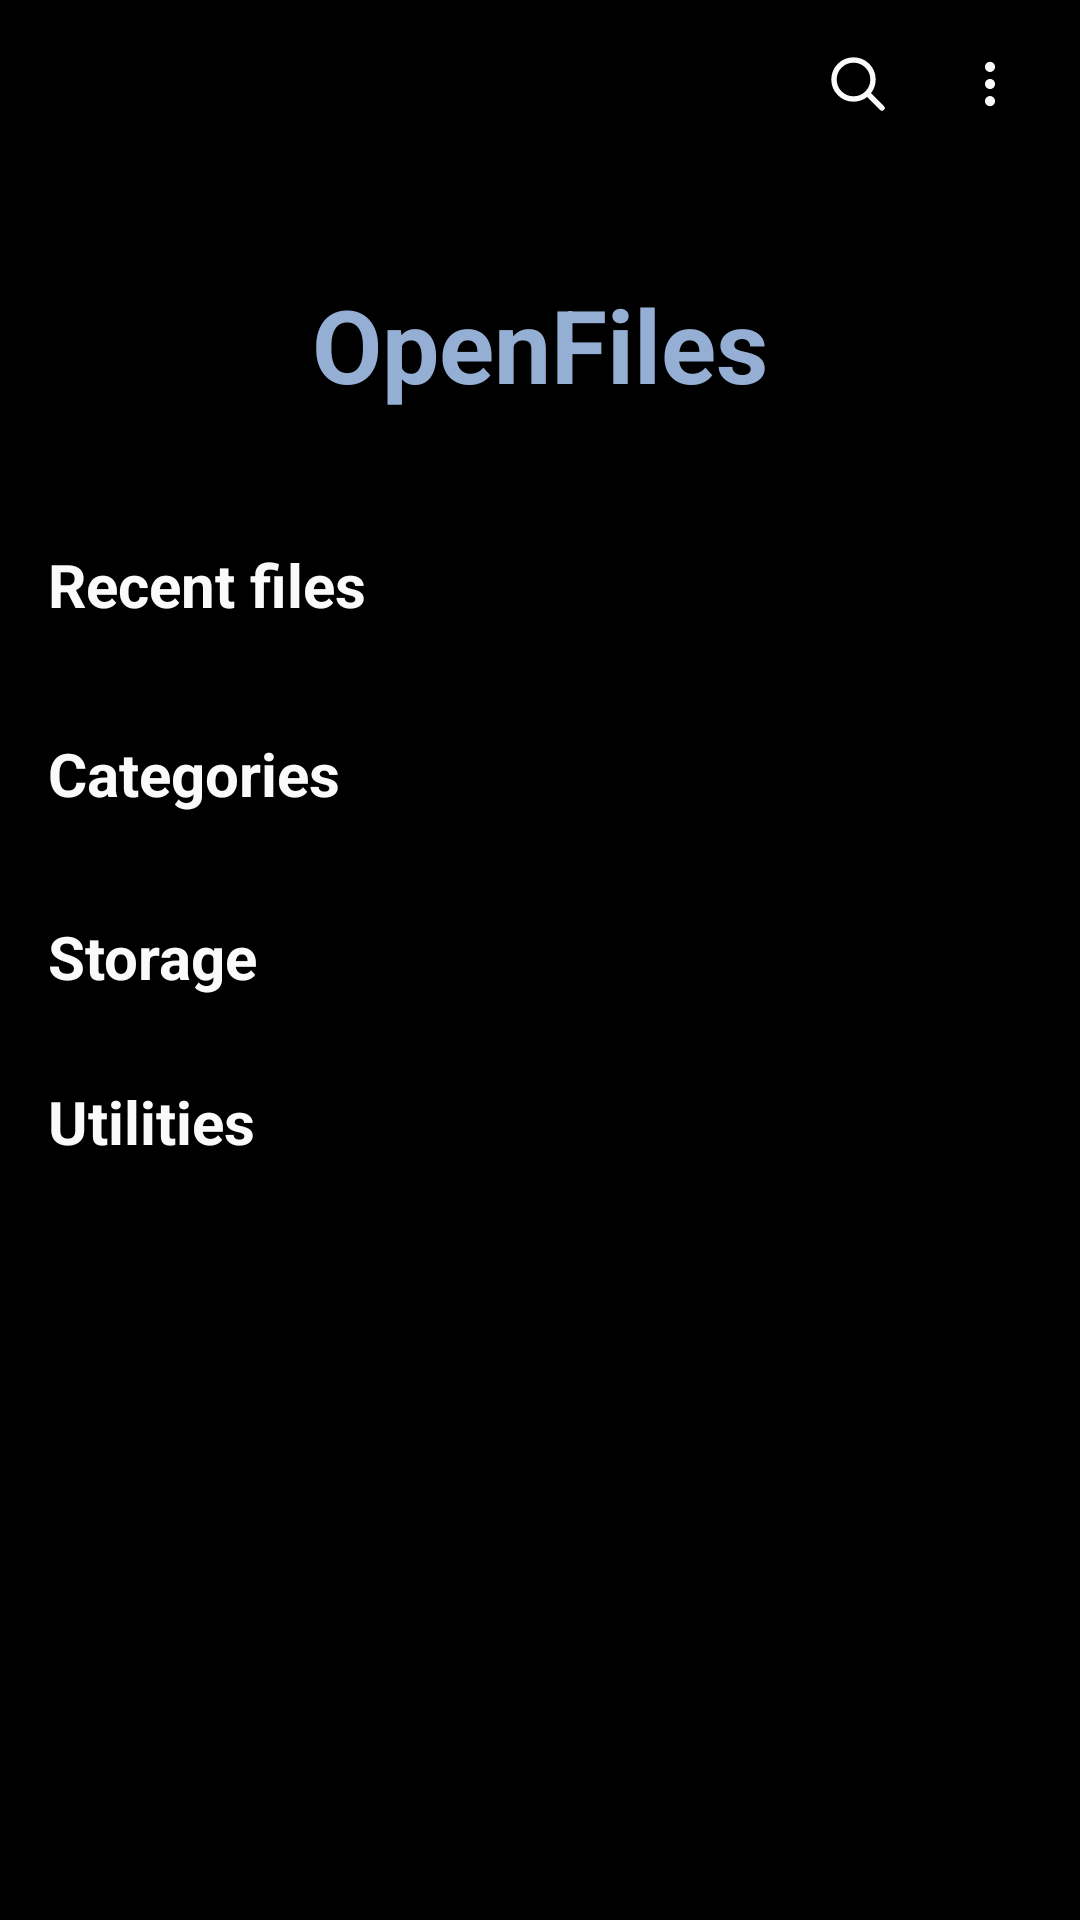

Icon bounding boxes for this 1080w x 1920h phone screenshot, format (left=x1, top=y1, right=x2, bottom=y2):
More: (left=985, top=61, right=995, bottom=107)
Search: (left=831, top=57, right=885, bottom=111)
